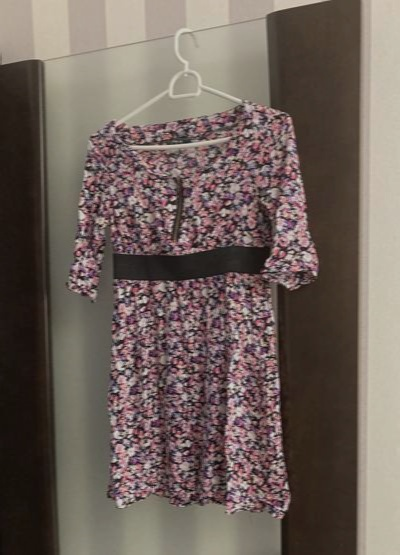Dress: (53, 107, 341, 515)
